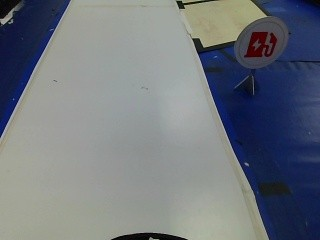battery: (234, 19, 289, 71)
